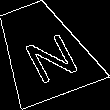N_NW: (10, 20, 77, 82)
